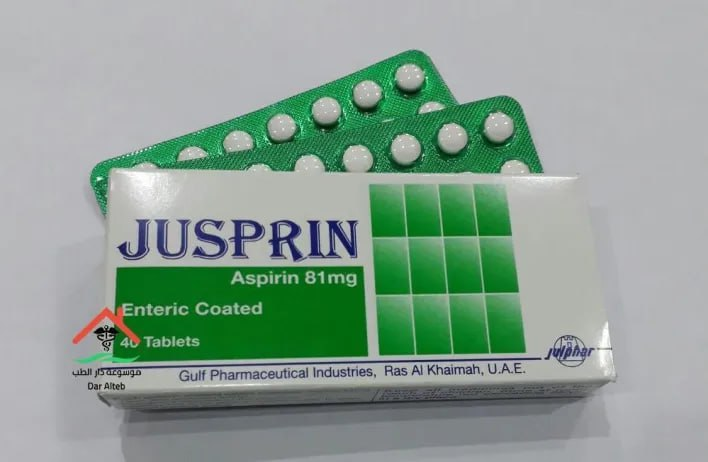Medicine: (87, 160, 620, 411)
